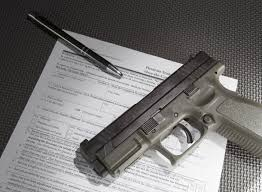gun: (80, 49, 262, 175)
